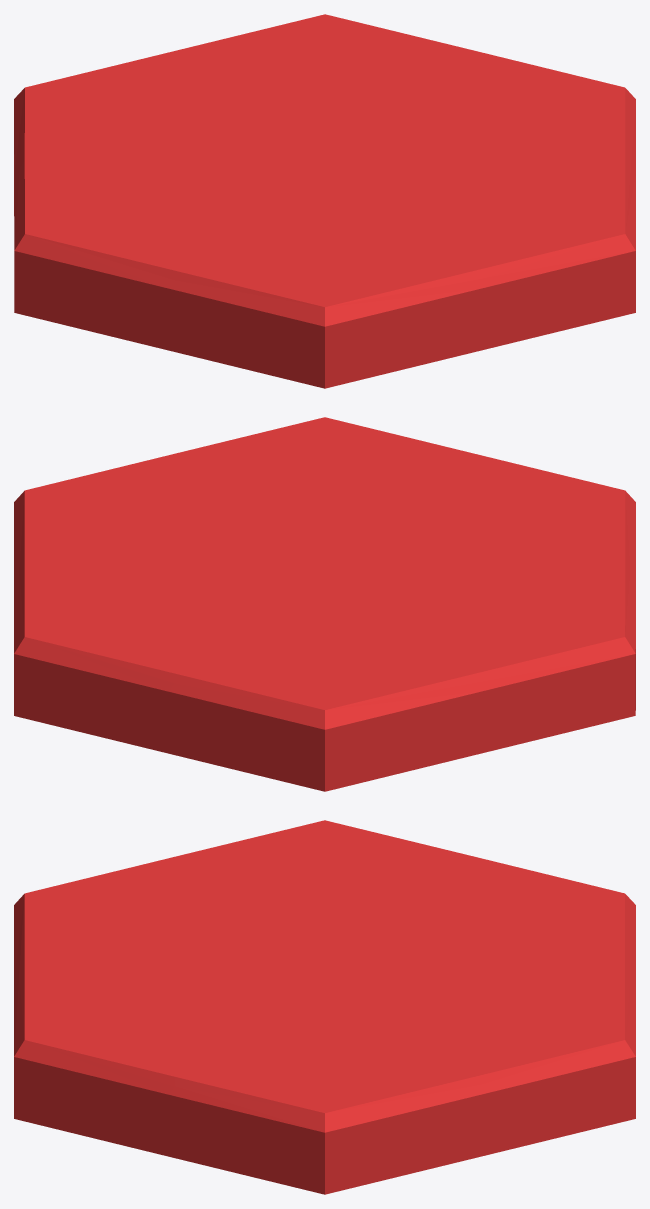
Rendered from button2.glb.
3 views of the same model, one above another, from view 1: azimuth 30°, elevation 25°; view 2: azimuth 150°, elevation 25°; view 3: azimuth 270°, elevation 25° (orthographic).
Size of the model in its own units: 4.24 by 0.4975 by 3.68.
1 material, 1 textured.
